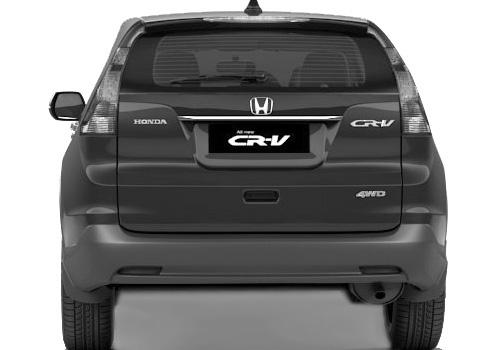Car boot: (111, 12, 409, 238)
Rear bumper: (59, 218, 452, 309)
Rear light - -L-: (77, 45, 131, 137)
Rear light - -R-: (384, 47, 436, 139)
Side mirror - -L-: (46, 88, 91, 125)
